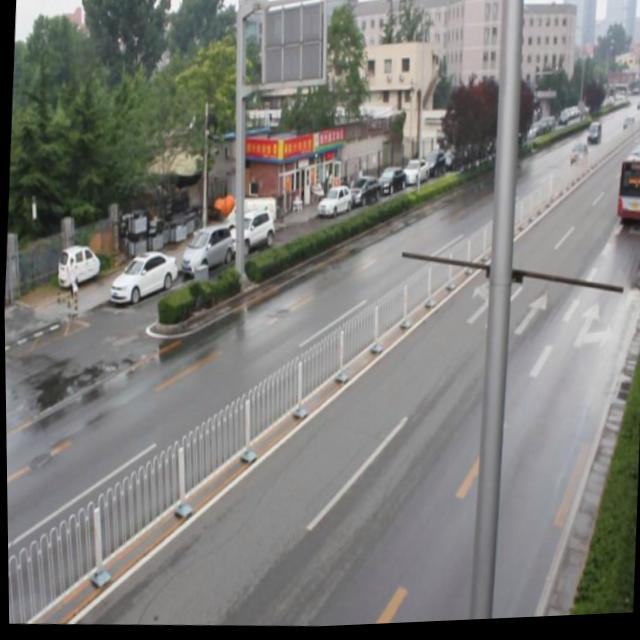van: (614, 146, 640, 229)
